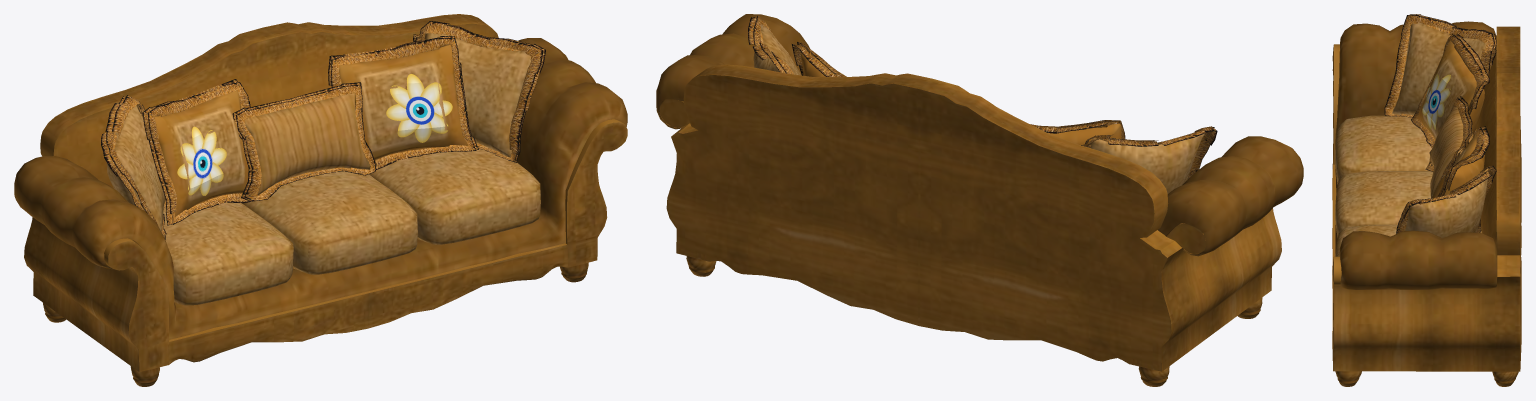
File: nyb_th_sofa.glb
The picture shows the model from 3 angles, left to right: view 1: azimuth 30°, elevation 25°; view 2: azimuth 150°, elevation 25°; view 3: azimuth 270°, elevation 25°; orthographic projection. The views are drawn at different scales.
Parts seen in each view (by area): view 1: sofa_03, stk_eyeflower_gold.png.001, stk_eyeflower_gold.png; view 2: sofa_03; view 3: sofa_03, stk_eyeflower_gold.png.
Part boxes in pixels (x1,y1,x2,y2): sofa_03: (14,14,627,386); stk_eyeflower_gold.png.001: (386,74,452,142); stk_eyeflower_gold.png: (177,126,226,195); sofa_03: (656,14,1303,386); sofa_03: (1332,14,1521,386); stk_eyeflower_gold.png: (1422,74,1451,129).
Bounding box in the file's own units: 2.73 × 1.12 × 0.9251.
Materials: 4 (4 with a texture image).
